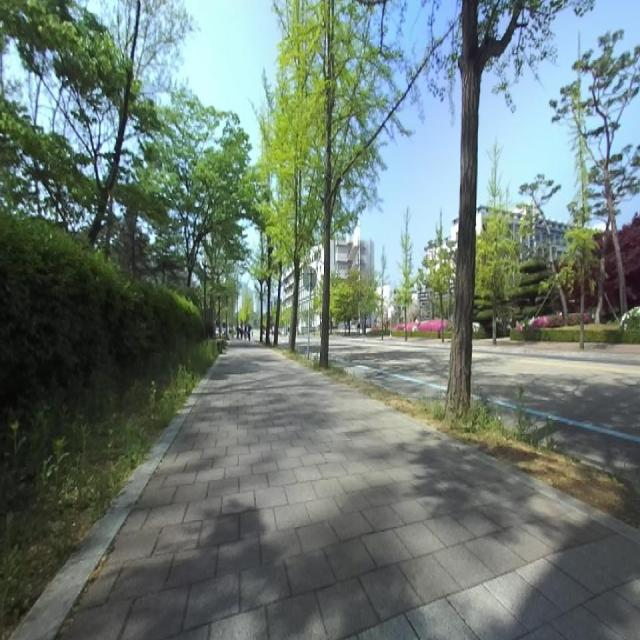sidewalk: (59, 341, 640, 639), (9, 364, 215, 639)
